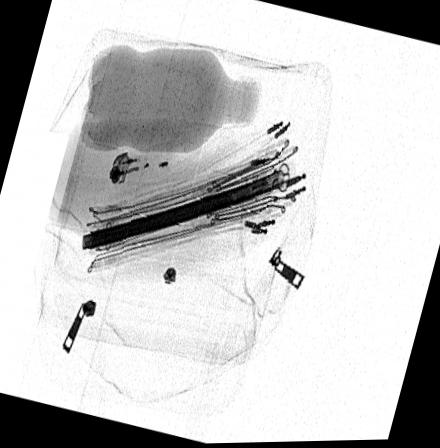Lighter: (106, 143, 189, 186)
